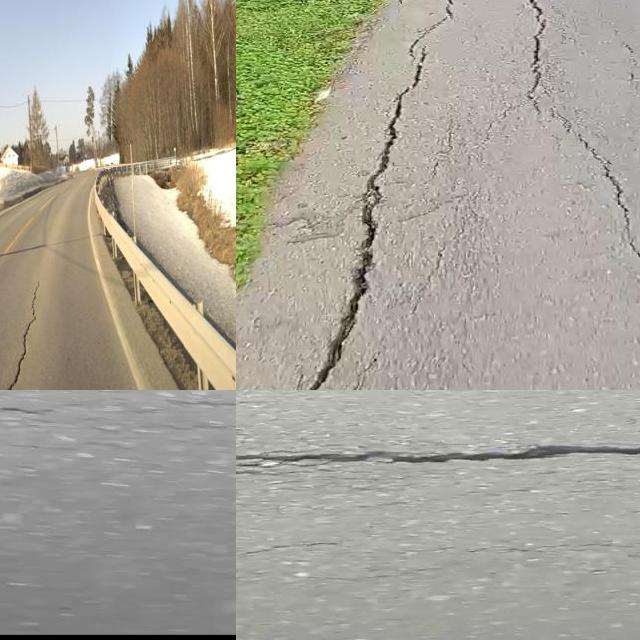Melintang: (236, 431, 640, 479)
Memanjang: (288, 0, 470, 390), (510, 0, 640, 278), (0, 287, 52, 390)
